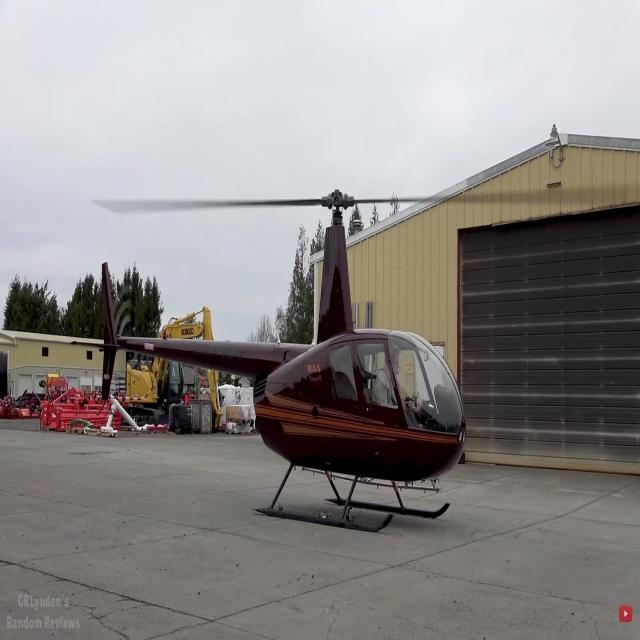CIV_HELO: (68, 189, 469, 537)
